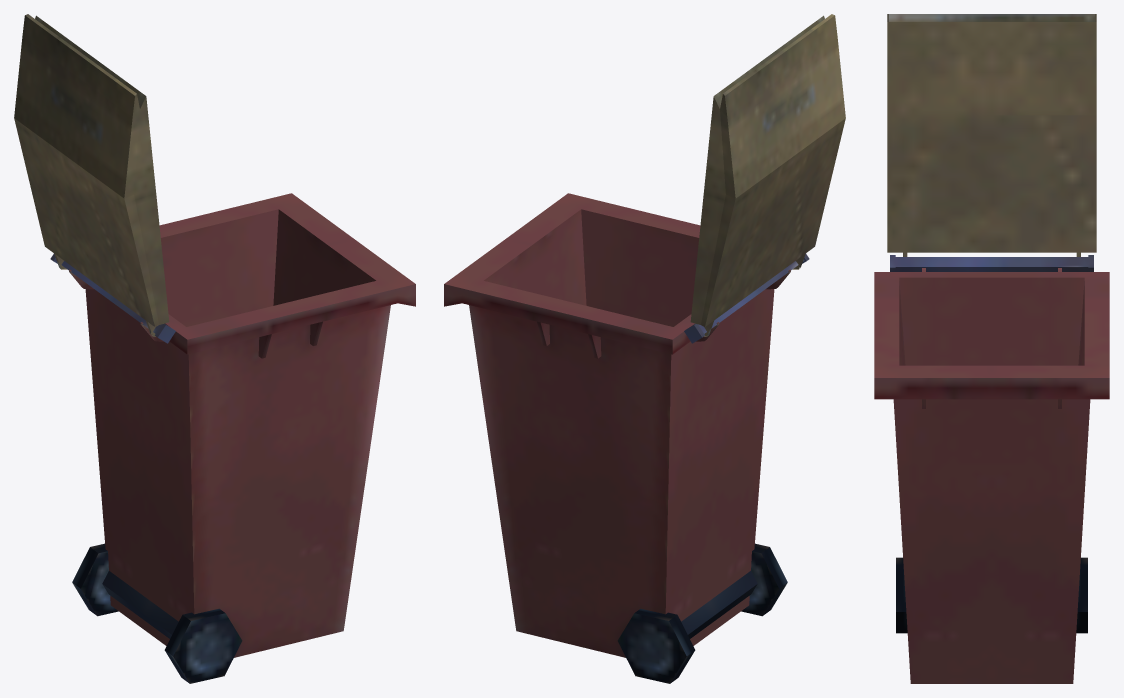
File: Urban_TrashCanAlt2Open_Model.fbx
The picture shows the model from 3 angles, left to right: view 1: azimuth 30°, elevation 25°; view 2: azimuth 150°, elevation 25°; view 3: azimuth 270°, elevation 25°; orthographic projection. The views are drawn at different scales.
Parts seen in each view (by area): view 1: Urban_TrashCanAlt2Open_Mesh; view 2: Urban_TrashCanAlt2Open_Mesh; view 3: Urban_TrashCanAlt2Open_Mesh.
Boxes of the visible parts, <box> form: Urban_TrashCanAlt2Open_Mesh: <box>14,14,415,683</box>; Urban_TrashCanAlt2Open_Mesh: <box>444,14,845,683</box>; Urban_TrashCanAlt2Open_Mesh: <box>874,14,1109,683</box>.
Size of the model in its own units: 1.03 by 2.1 by 0.7794.
